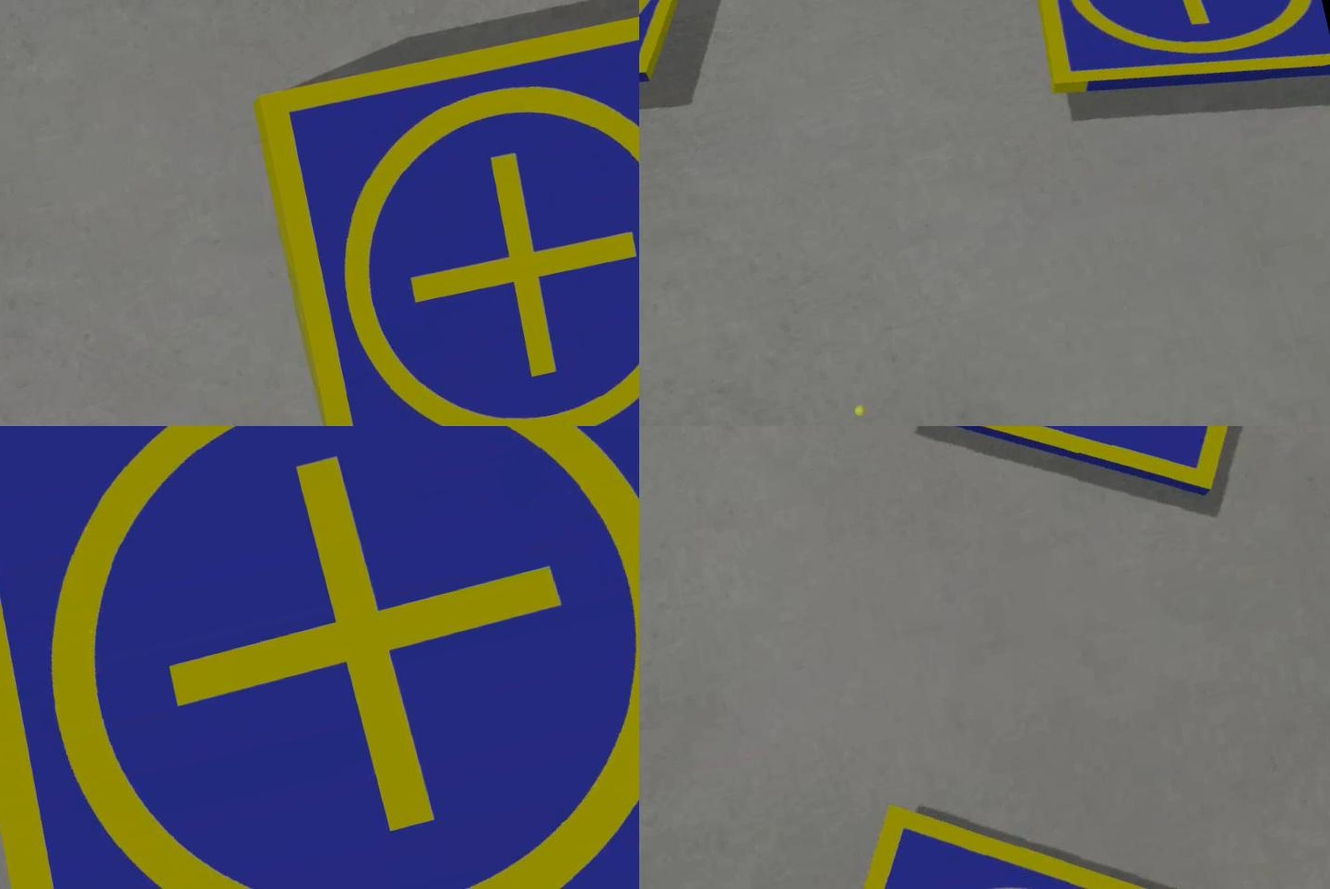small_base: (0, 426, 637, 889), (247, 1, 637, 426), (710, 728, 1276, 889), (847, 426, 1328, 562), (1012, 1, 1328, 138)
